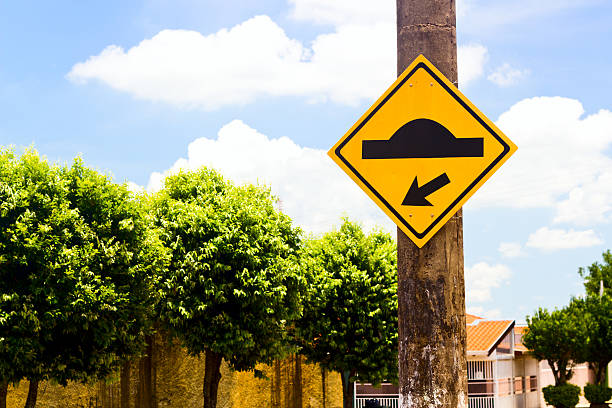speed-breaker: (326, 54, 516, 248)
